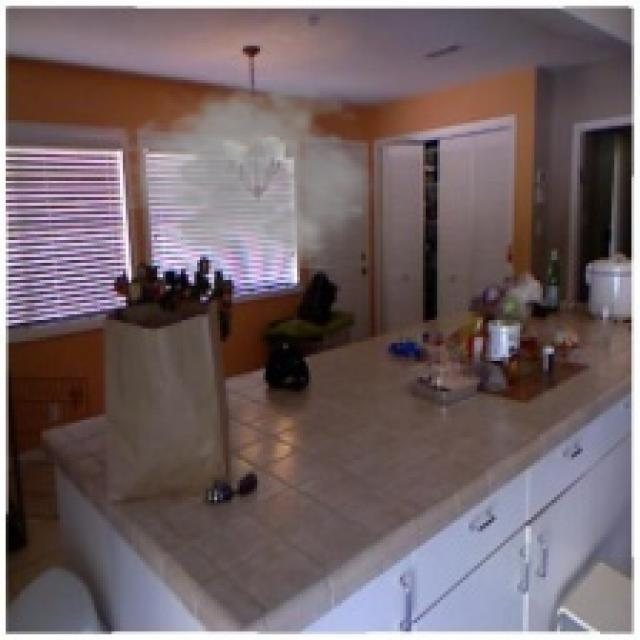Smoke: (114, 69, 383, 268)
